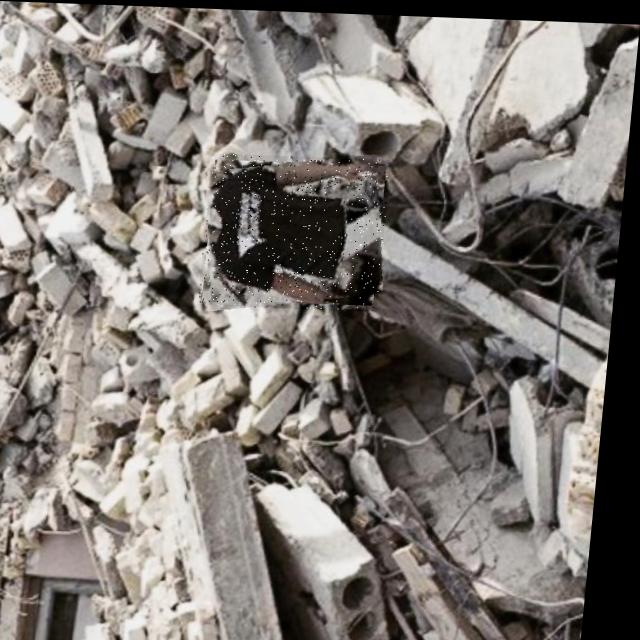Person in Rubble: (204, 151, 394, 308)
